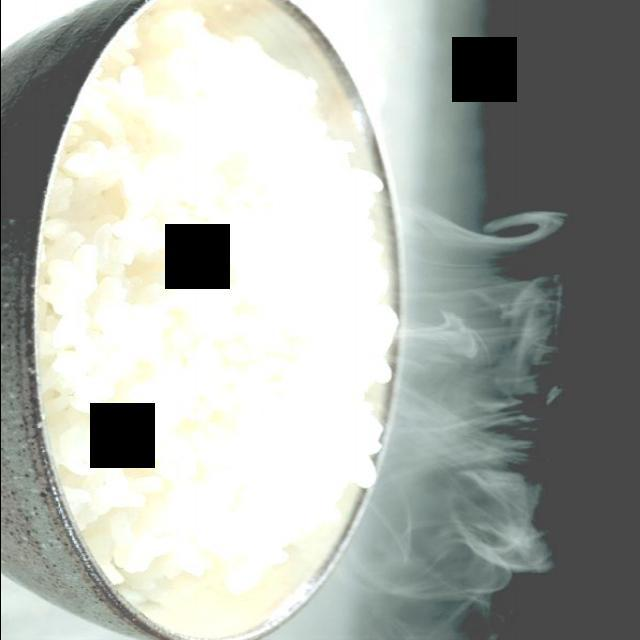rice: (42, 10, 396, 601)
